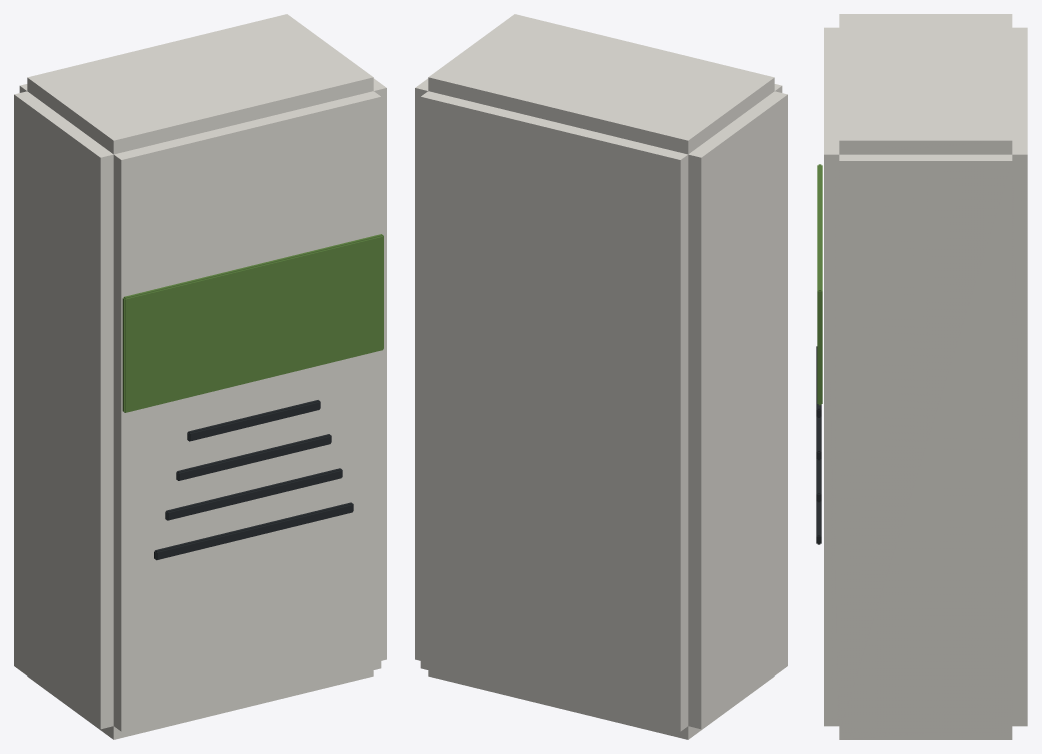
File: sku_v24_care_box.glb
3 views of the same model, side by side, from view 1: azimuth 30°, elevation 25°; view 2: azimuth 150°, elevation 25°; view 3: azimuth 270°, elevation 25° (orthographic).
Visible parts, largest first — view 1: sku_v24_care_box_Warm_white_coating, sku_v24_care_box_V24_leaf, sku_v24_care_box_V24_satin_black; view 2: sku_v24_care_box_Warm_white_coating; view 3: sku_v24_care_box_Warm_white_coating, sku_v24_care_box_V24_leaf, sku_v24_care_box_V24_satin_black.
Part boxes in pixels (left/top/right/bottom): sku_v24_care_box_Warm_white_coating: left=14, top=14, right=386, bottom=739; sku_v24_care_box_V24_leaf: left=122, top=234, right=383, bottom=412; sku_v24_care_box_V24_satin_black: left=154, top=400, right=353, bottom=560; sku_v24_care_box_Warm_white_coating: left=415, top=14, right=787, bottom=739; sku_v24_care_box_Warm_white_coating: left=824, top=14, right=1027, bottom=739; sku_v24_care_box_V24_leaf: left=817, top=164, right=822, bottom=405; sku_v24_care_box_V24_satin_black: left=816, top=346, right=821, bottom=544.
Size of the model in its own units: 0.065 by 0.13 by 0.0415.
